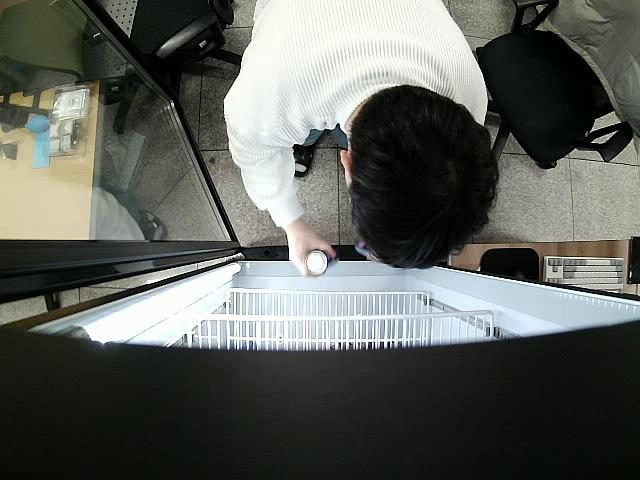00_hand: (287, 229, 337, 279)
